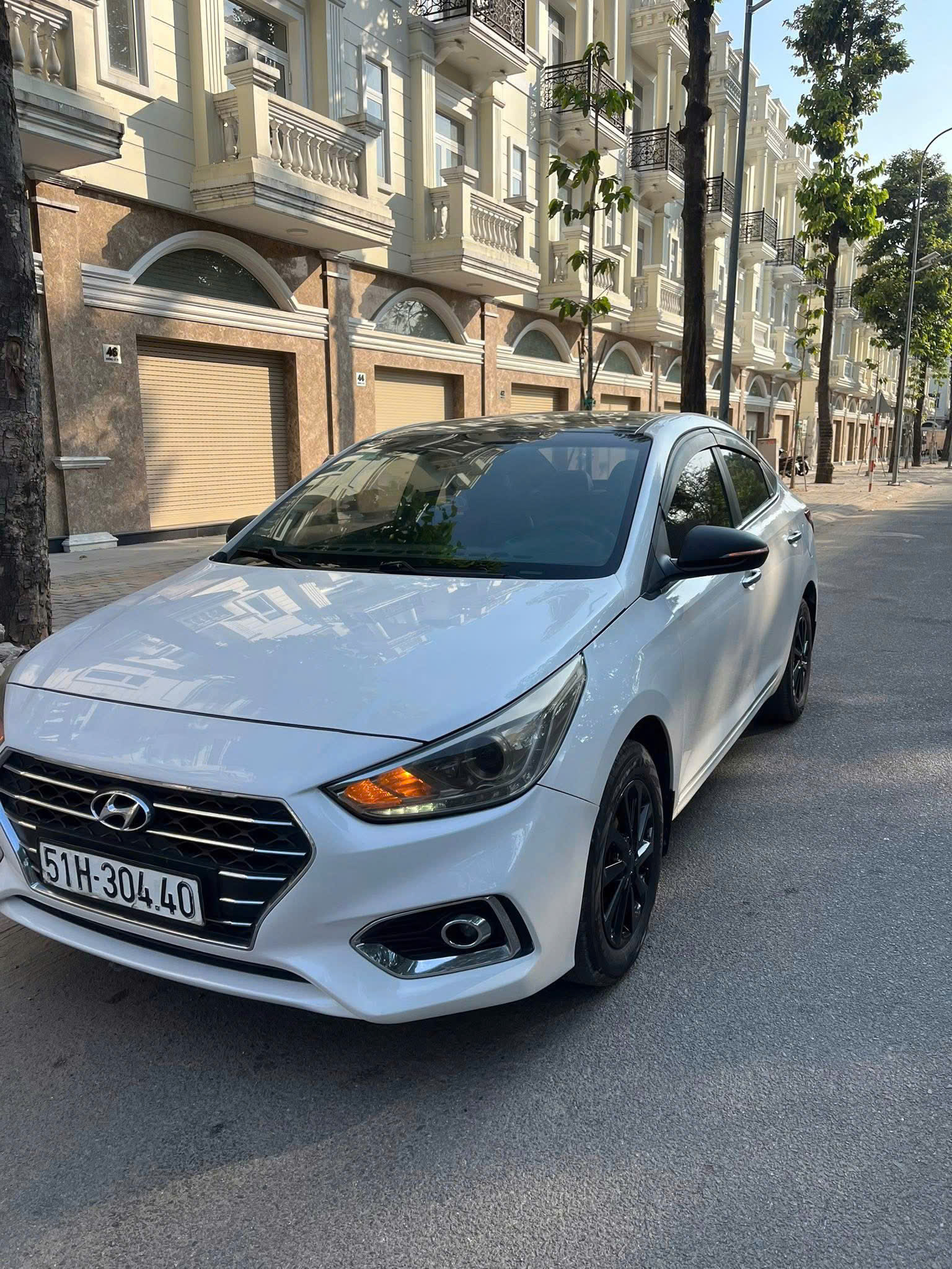Bien-so: (39, 841, 203, 923)
